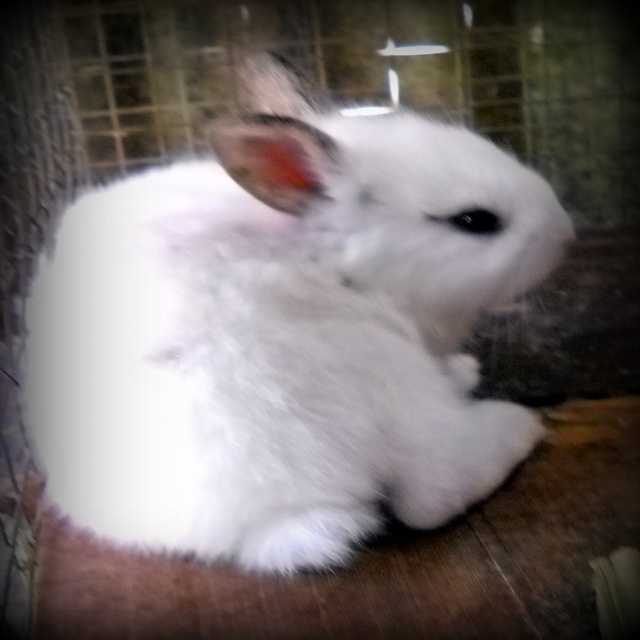Rabbit: (13, 48, 575, 581)
